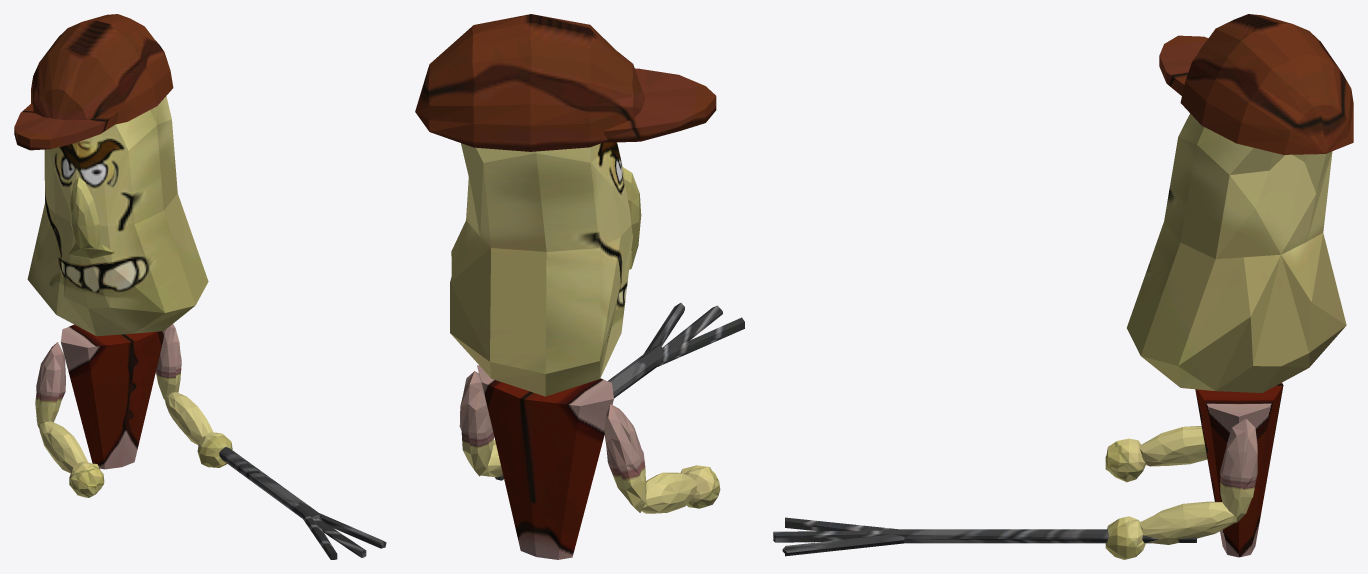
The model's file is Susik.glb.
The picture shows the model from 3 angles, left to right: view 1: azimuth 30°, elevation 25°; view 2: azimuth 150°, elevation 25°; view 3: azimuth 270°, elevation 25°; orthographic projection. The views are drawn at different scales.
Visible parts, largest first — view 1: Susik; view 2: Susik; view 3: Susik.
Boxes of the visible parts, x1=… form: Susik: x1=14, y1=14, x2=386, y2=559; Susik: x1=415, y1=14, x2=744, y2=559; Susik: x1=773, y1=14, x2=1353, y2=559.
Bounding box in the file's own units: 296 × 617 × 623.
Materials: 1 (1 with a texture image).
